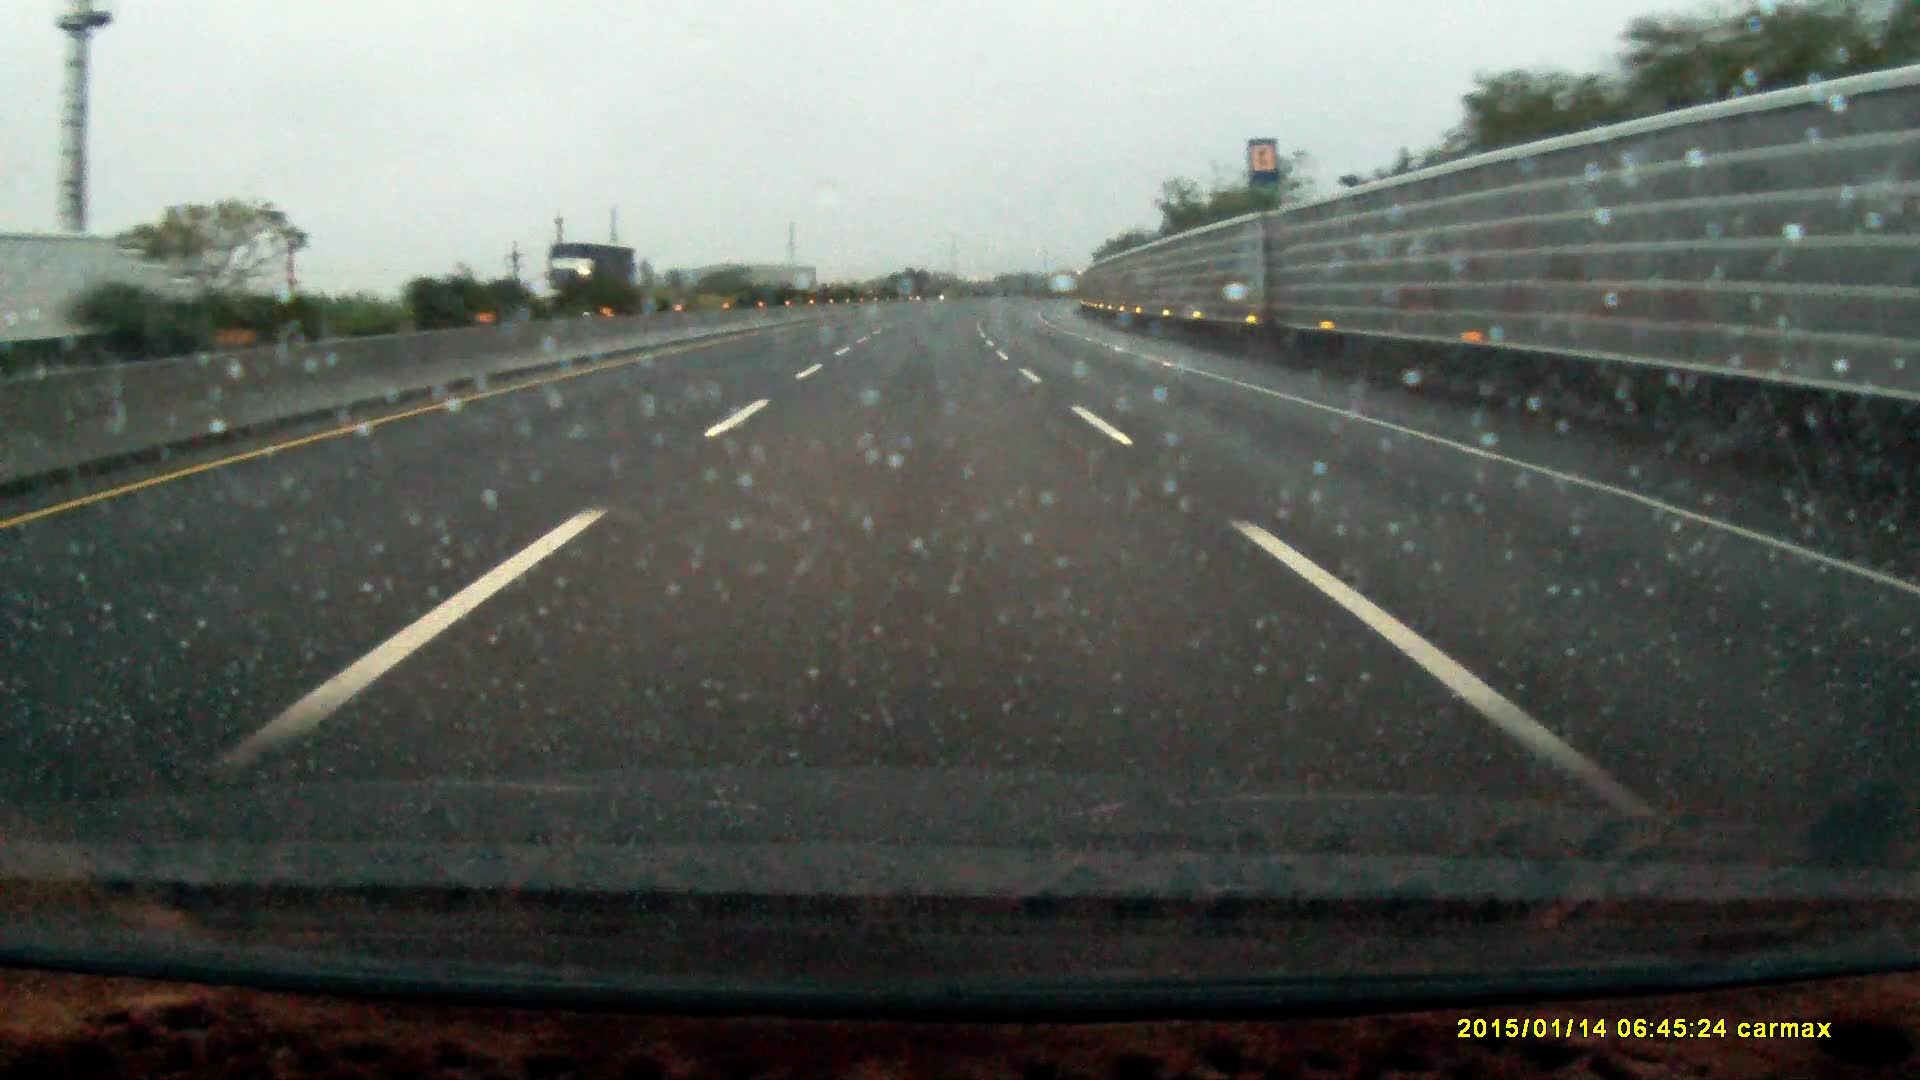vehicle: (549, 243, 636, 320)
